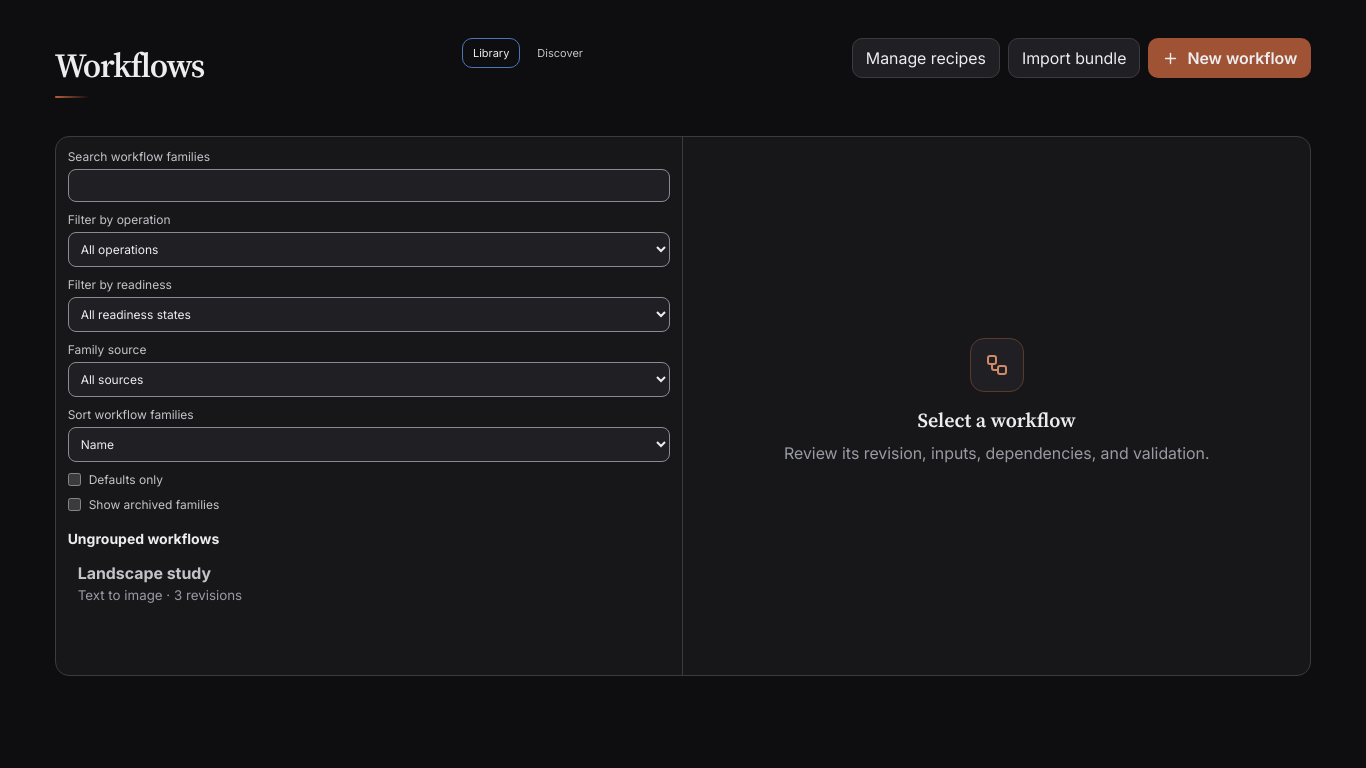
Test case: workflow revision history › keeps a revision inspectable when its creation date is unavailable
Click the text "Landscape study" at (144, 573), box [78, 563, 211, 583]
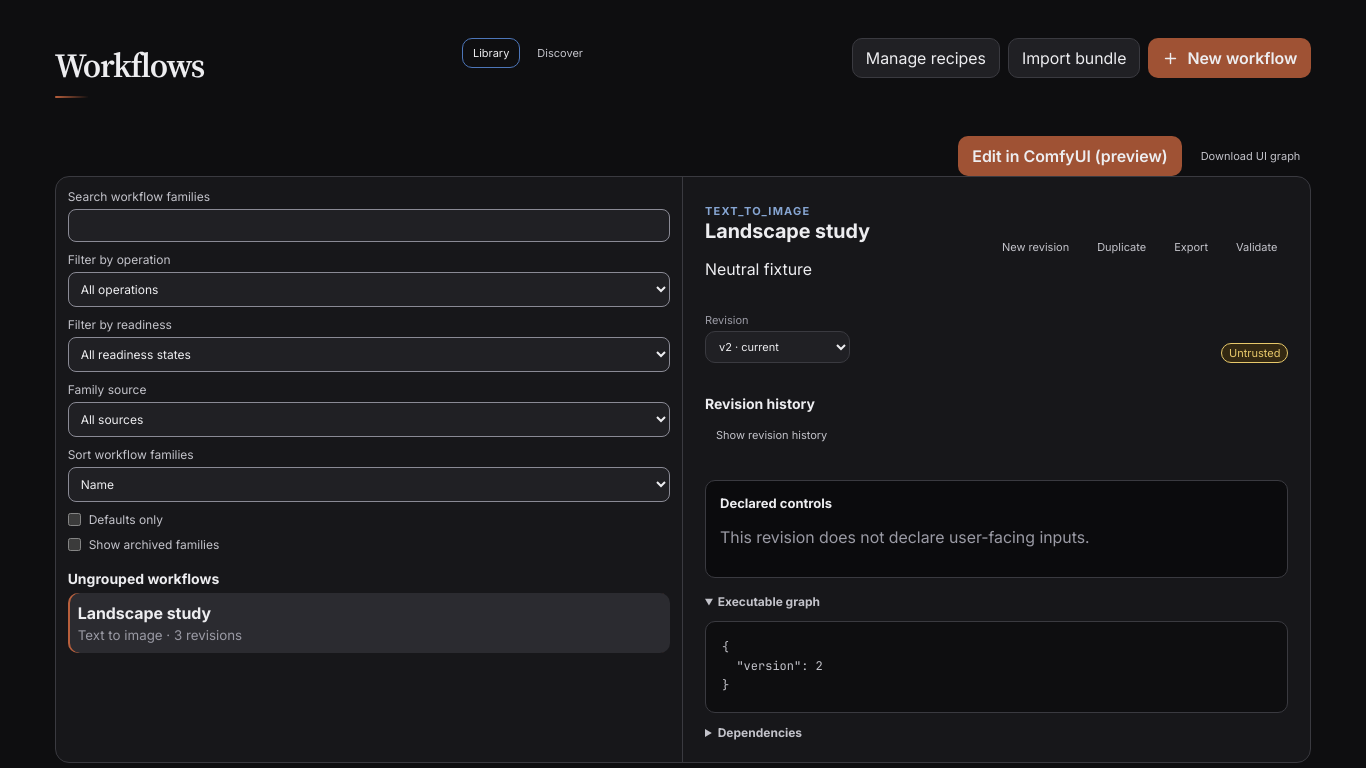
Expected: the button "New revision" is shown, [991, 232, 1080, 262]
Click the button "Show revision history" at (772, 435), box [705, 420, 838, 450]
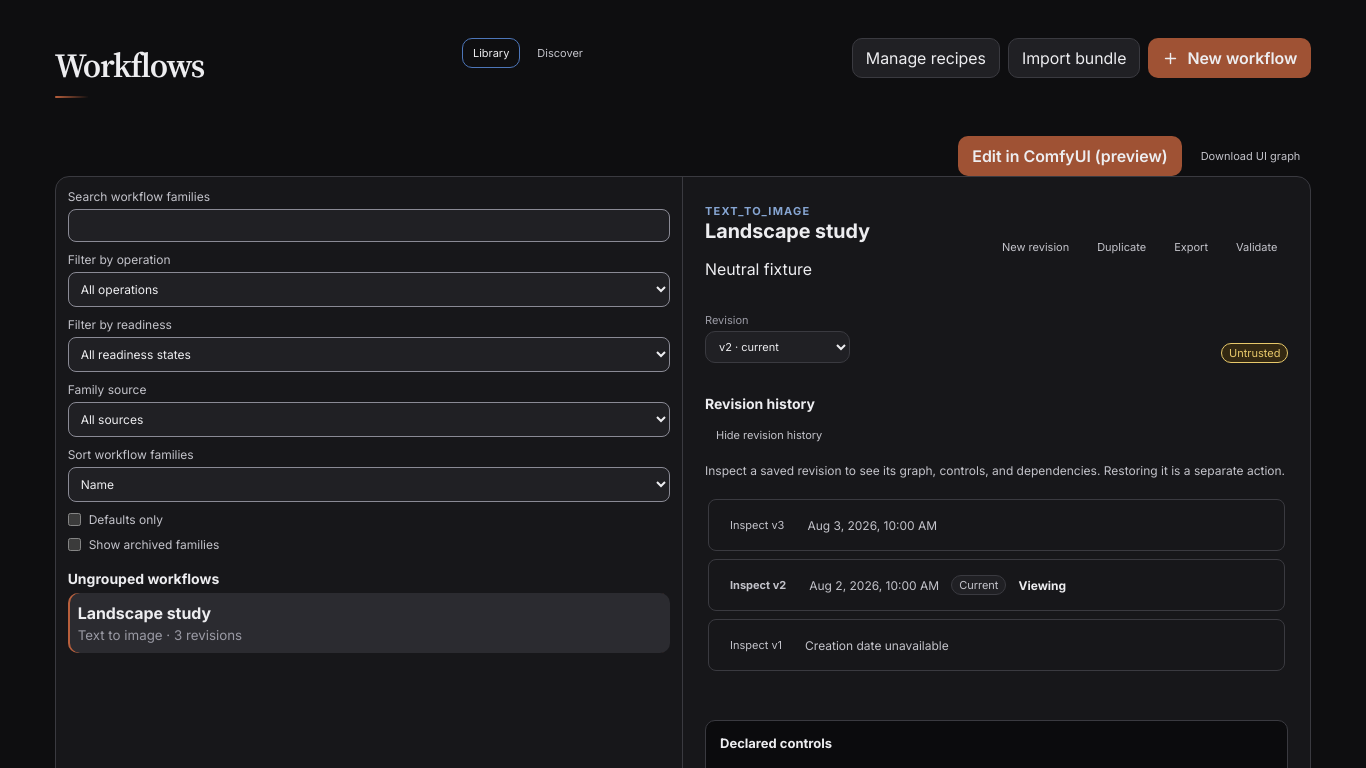
Expected: the text "Creation date unavailable" is shown, [805, 638, 949, 652]
Click the button "Inspect v1" at (756, 645), box [719, 630, 793, 660]
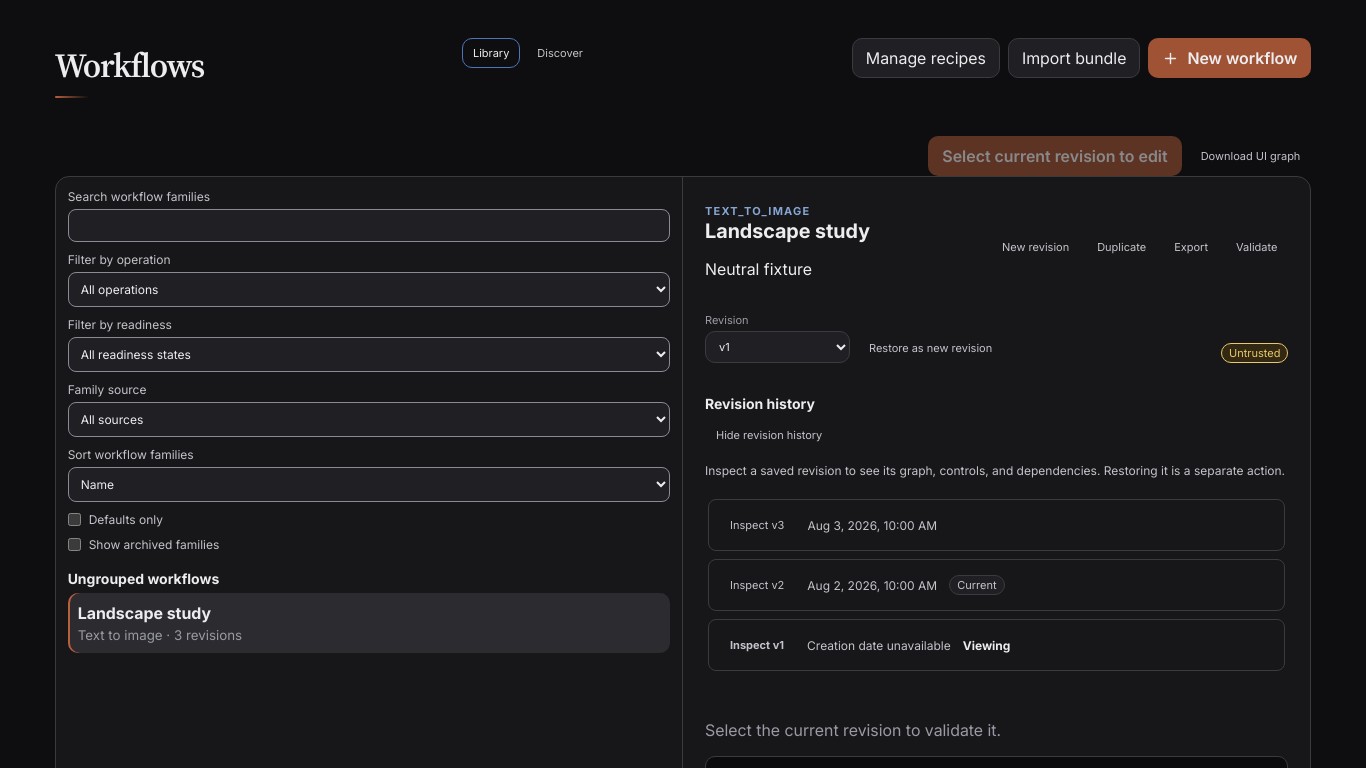
Expected: the dropdown labelled "Revision" shows "v1", [705, 331, 850, 363]
